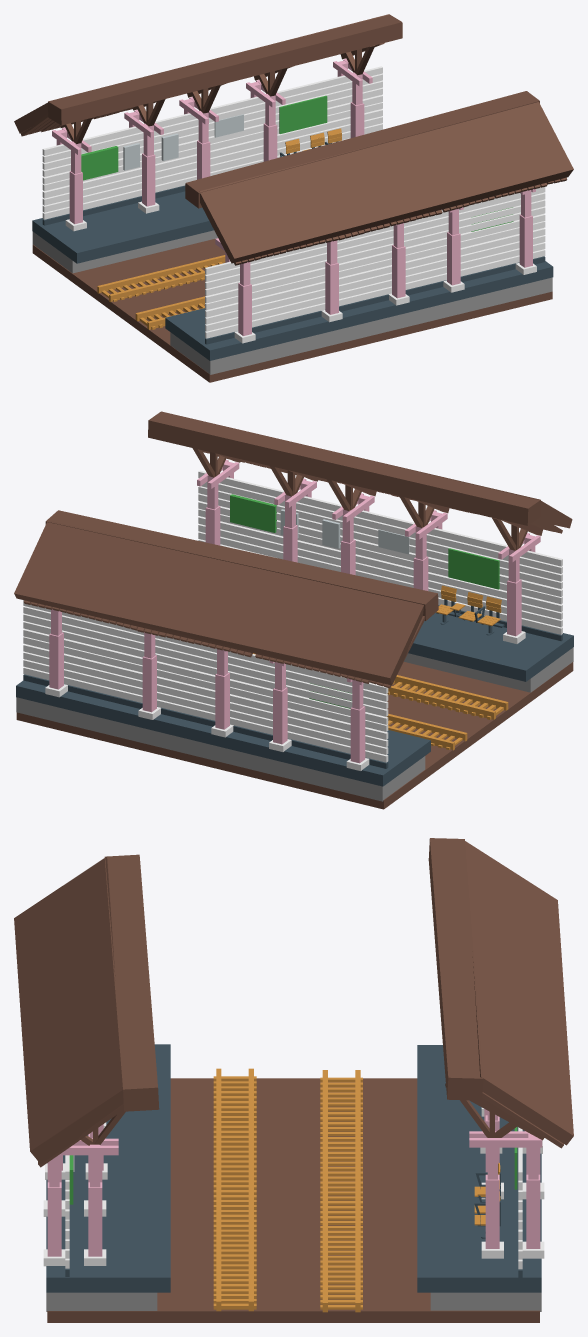
File: Japanese Train Station.glb
The picture shows the model from 3 angles, top to bottom: view 1: azimuth 30°, elevation 25°; view 2: azimuth 150°, elevation 25°; view 3: azimuth 270°, elevation 25°; orthographic projection. The views are drawn at different scales.
Parts seen in each view (by area): view 1: group392127015, group363826387, group442698204, group564881360, group208473988, group1408056217, group1220815049, group20818879, group933897435, group433978502, group1835161476, group98640599 (+34 smaller); view 2: group2017282356, group1220815049, group442698204, group208473988, group599022633, group564881360, group363826387, group2092357557, group1608791775, group98640599, group1607514826, group433978502 (+33 smaller); view 3: group442698204, group392127015, group2017282356, group208473988, group564881360, group548381342, group1835161476, group363826387, group1220815049, group1408056217, group599022633, group2078504602 (+4 smaller).
Boxes of the visible parts, left/top/right/bottom form: group392127015: left=199, top=102, right=573, bottom=263; group363826387: left=48, top=14, right=402, bottom=125; group442698204: left=32, top=238, right=552, bottom=382; group564881360: left=165, top=261, right=553, bottom=360; group208473988: left=32, top=191, right=213, bottom=263; group1408056217: left=170, top=277, right=552, bottom=374; group1220815049: left=185, top=91, right=539, bottom=208; group20818879: left=205, top=192, right=545, bottom=281; group933897435: left=205, top=199, right=545, bottom=288; group433978502: left=205, top=228, right=545, bottom=317; group1835161476: left=97, top=255, right=225, bottom=302; group98640599: left=42, top=109, right=382, bottom=198; group2017282356: left=14, top=520, right=423, bottom=685; group1220815049: left=148, top=411, right=540, bottom=525; group442698204: left=16, top=662, right=573, bottom=809; group208473988: left=16, top=680, right=430, bottom=786; group599022633: left=16, top=697, right=425, bottom=801; group564881360: left=408, top=612, right=573, bottom=681; group363826387: left=45, top=510, right=438, bottom=620; group2092357557: left=23, top=606, right=388, bottom=701; group1608791775: left=23, top=614, right=388, bottom=709; group98640599: left=23, top=644, right=388, bottom=739; group1607514826: left=23, top=629, right=388, bottom=724; group433978502: left=198, top=516, right=562, bottom=612; group442698204: left=47, top=1078, right=539, bottom=1322; group392127015: left=14, top=856, right=123, bottom=1163; group2017282356: left=465, top=841, right=573, bottom=1145; group208473988: left=417, top=1045, right=541, bottom=1292; group564881360: left=46, top=1044, right=170, bottom=1292; group548381342: left=213, top=1068, right=256, bottom=1311; group1835161476: left=320, top=1070, right=362, bottom=1312; group363826387: left=428, top=838, right=483, bottom=1100; group1220815049: left=104, top=854, right=159, bottom=1111; group1408056217: left=46, top=1292, right=157, bottom=1311; group599022633: left=430, top=1292, right=541, bottom=1311; group2078504602: left=47, top=1182, right=61, bottom=1256.
Size of the model in its own units: 4.58 by 2.08 by 4.31.
